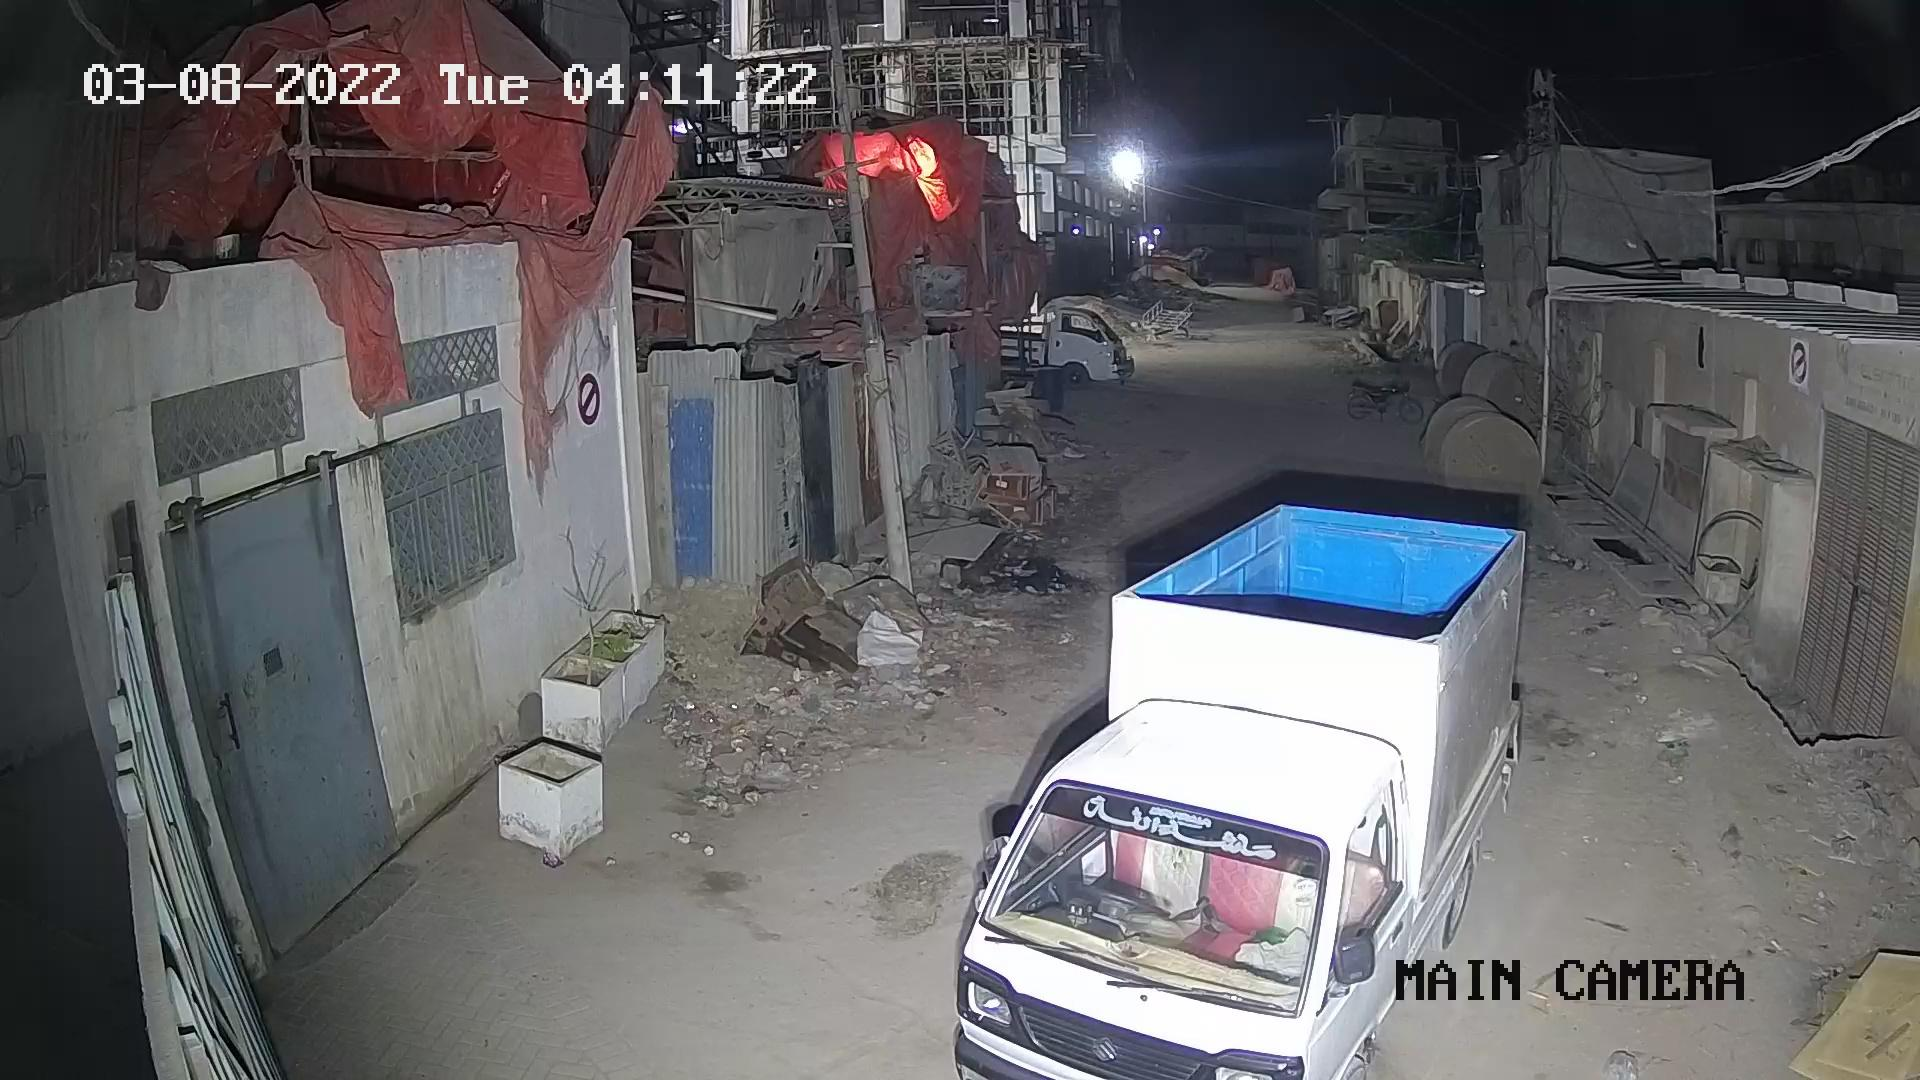Ltv: (942, 510, 1538, 1080), (1055, 309, 1135, 393)
bike: (1348, 376, 1423, 427)
